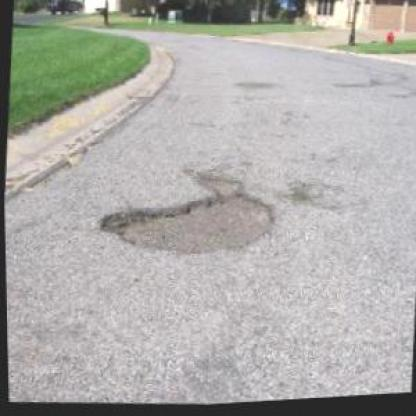pothole: (95, 182, 278, 266), (187, 167, 243, 200), (283, 190, 308, 209)
